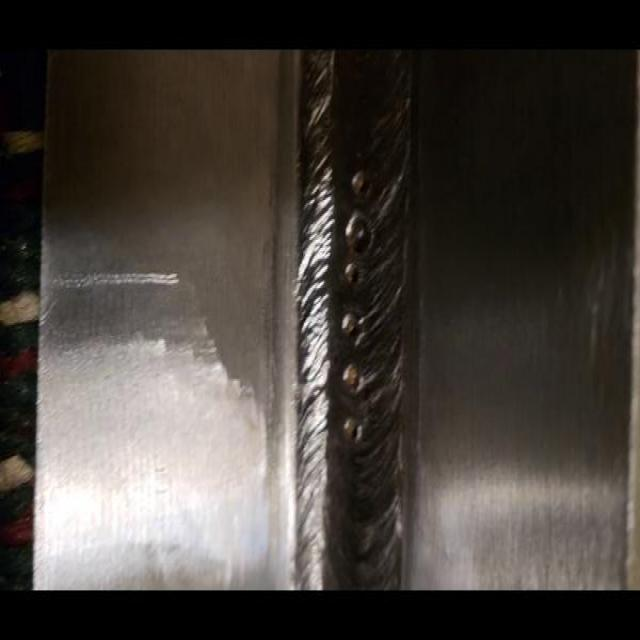Welding Line: (303, 57, 402, 590)
Workpiece: (41, 52, 640, 588)
porosity: (342, 170, 372, 442)
